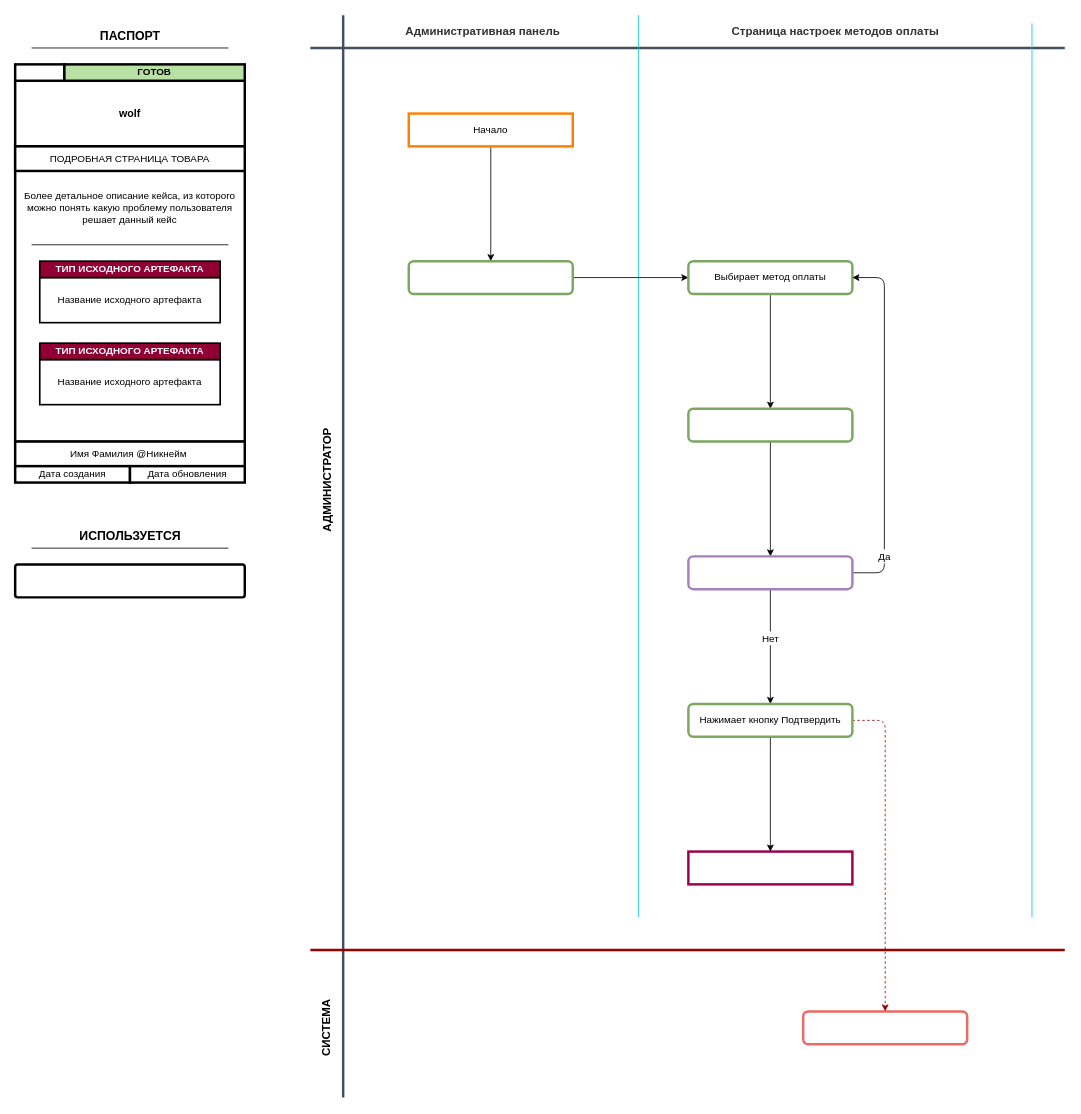
The diagram is 1081 pixels wide and 1114 high, and some of its shapes have lost their labels. Each missing label, with the centre of its shape:
Вводит в форму ввода время холдирования: the point at 770,424
ВЕРСИЯ: the point at 39,72
Название сценария и ссылка на него: the point at 130,580
Настройки метода оплаты обновлены: the point at 885,1027
Нужно изменить метод оплаты?: the point at 770,572
Окончание: the point at 770,867
Перейти к редактированию метода оплаты: the point at 490,277
